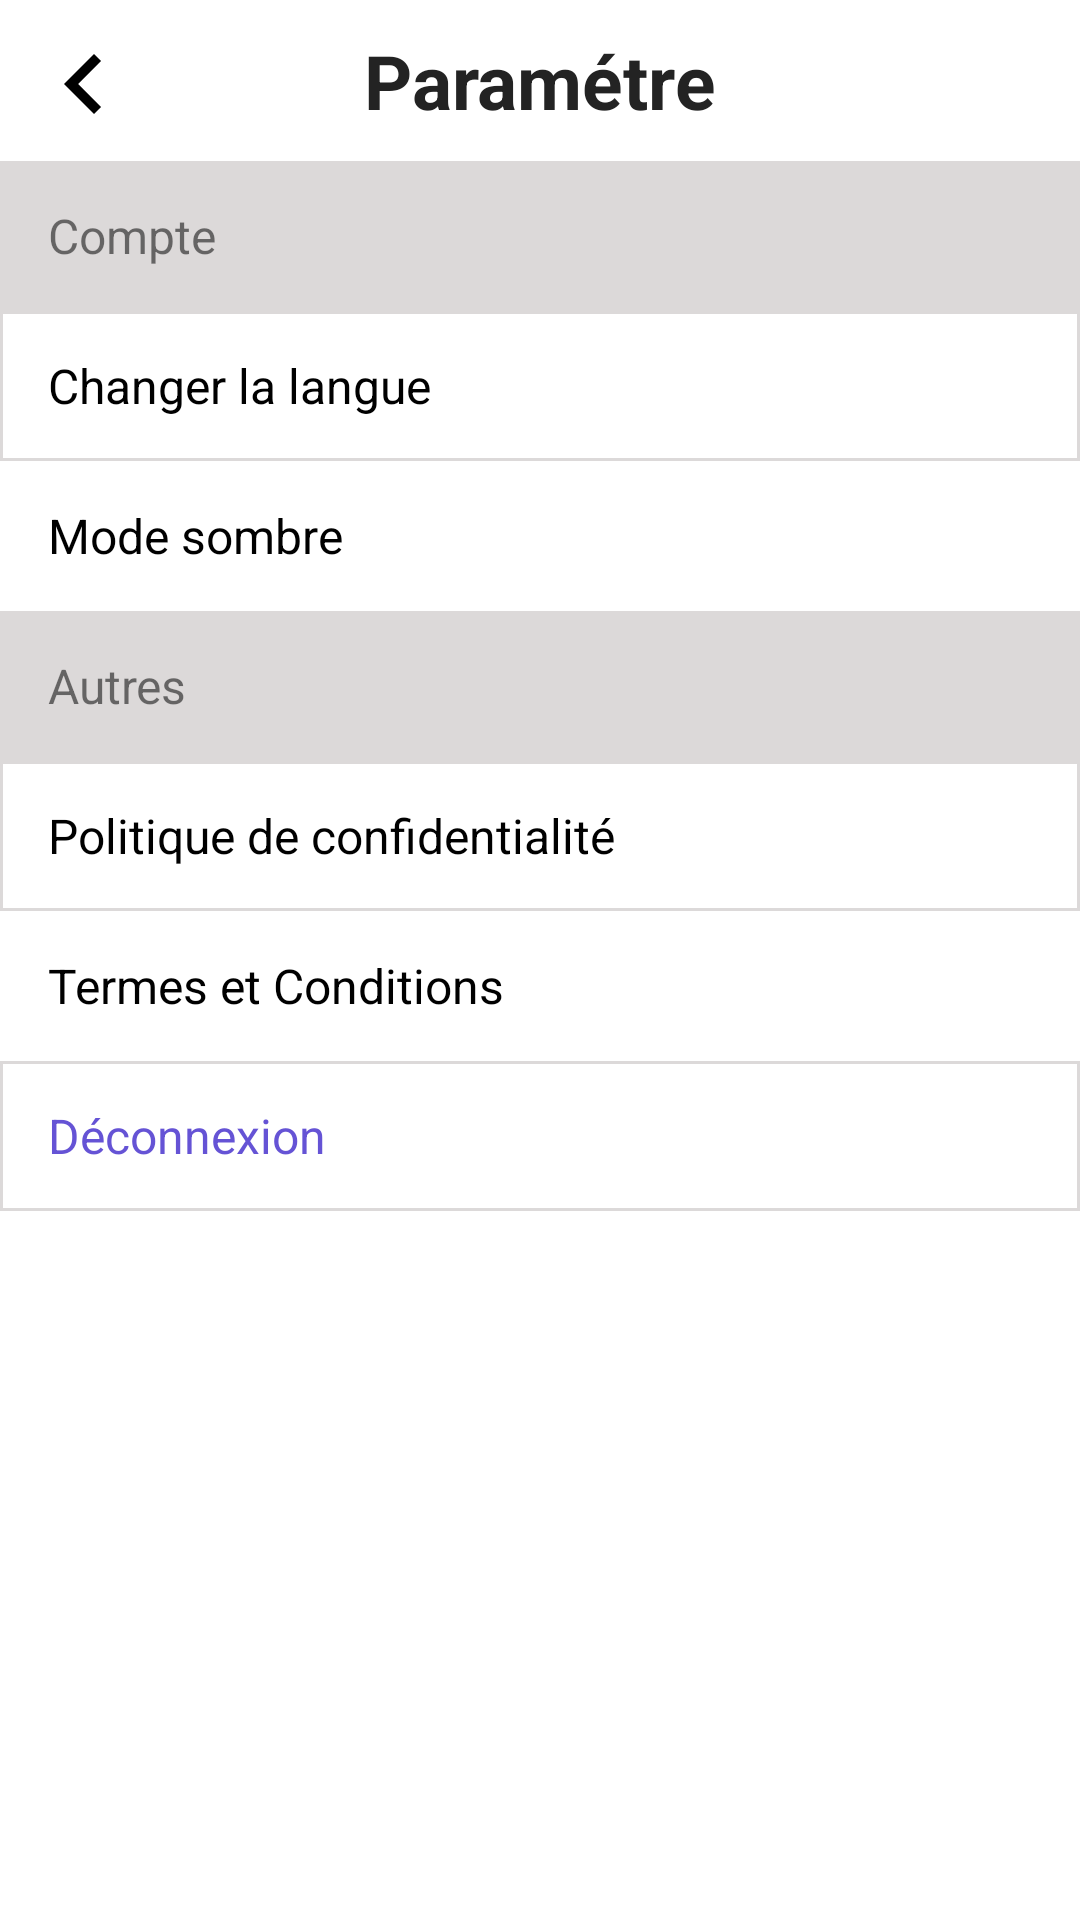

Screen size 1080*1920. Icon name, then its center in pixels as (x=x, y=y):
navigate before: (x=82, y=84)
